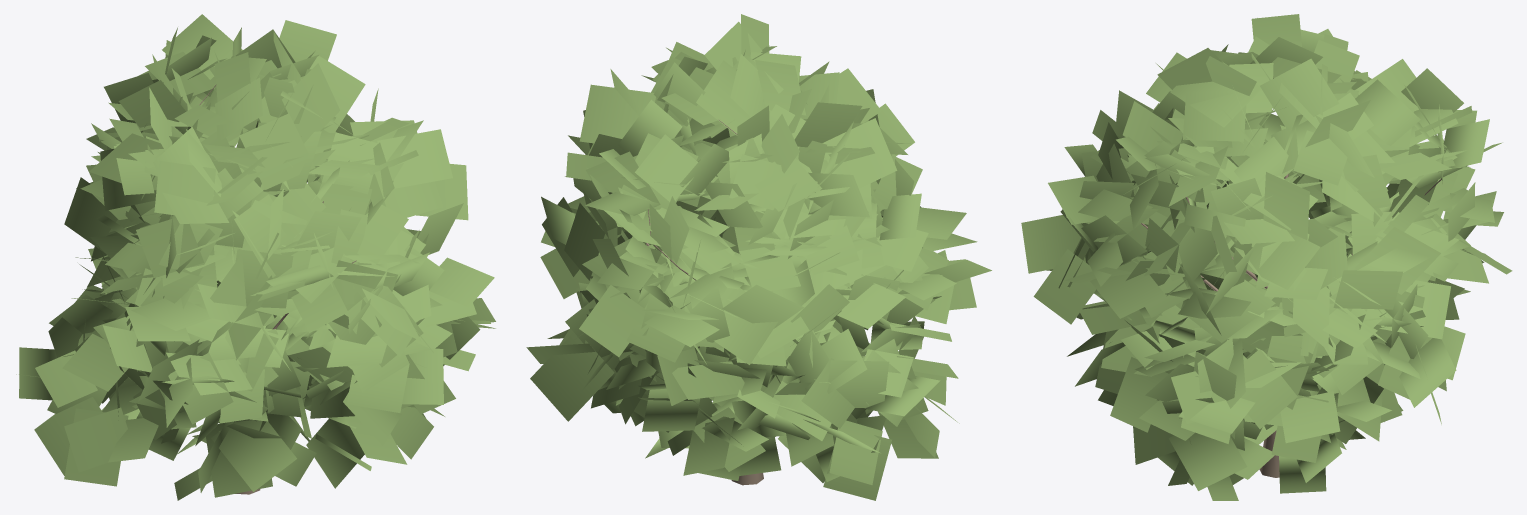
File: Oak_12_young_lod1.glb
3 renders of one model, left to right at view 1: azimuth 30°, elevation 25°; view 2: azimuth 150°, elevation 25°; view 3: azimuth 270°, elevation 25°, orthographic. The views are drawn at different scales.
Visible parts, largest first — view 1: Oak_12_young_lod1; view 2: Oak_12_young_lod1; view 3: Oak_12_young_lod1.
Boxes of the visible parts, x1=… form: Oak_12_young_lod1: x1=16, y1=14, x2=495, y2=500; Oak_12_young_lod1: x1=526, y1=14, x2=991, y2=500; Oak_12_young_lod1: x1=1021, y1=14, x2=1512, y2=500.
Bounding box in the file's own units: 8.55 × 8.5 × 8.54.
